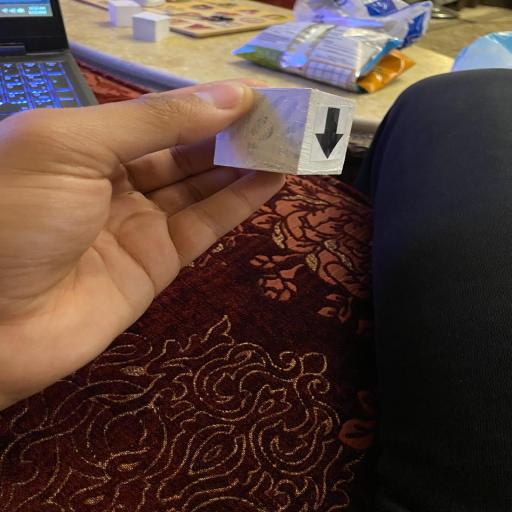Down: (212, 86, 355, 176)
